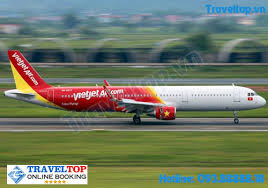maybay_dansu: (6, 53, 268, 124)
